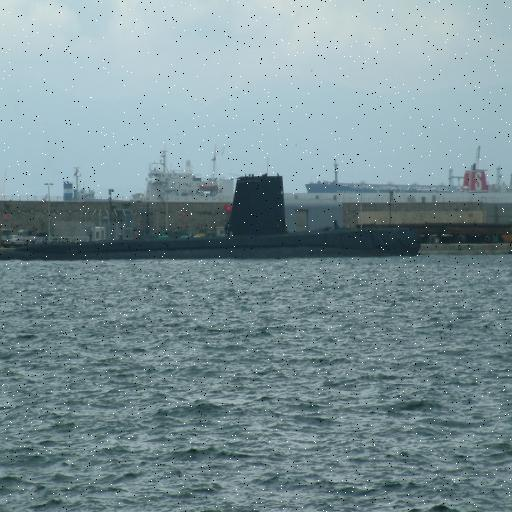submarine: (18, 176, 430, 263)
